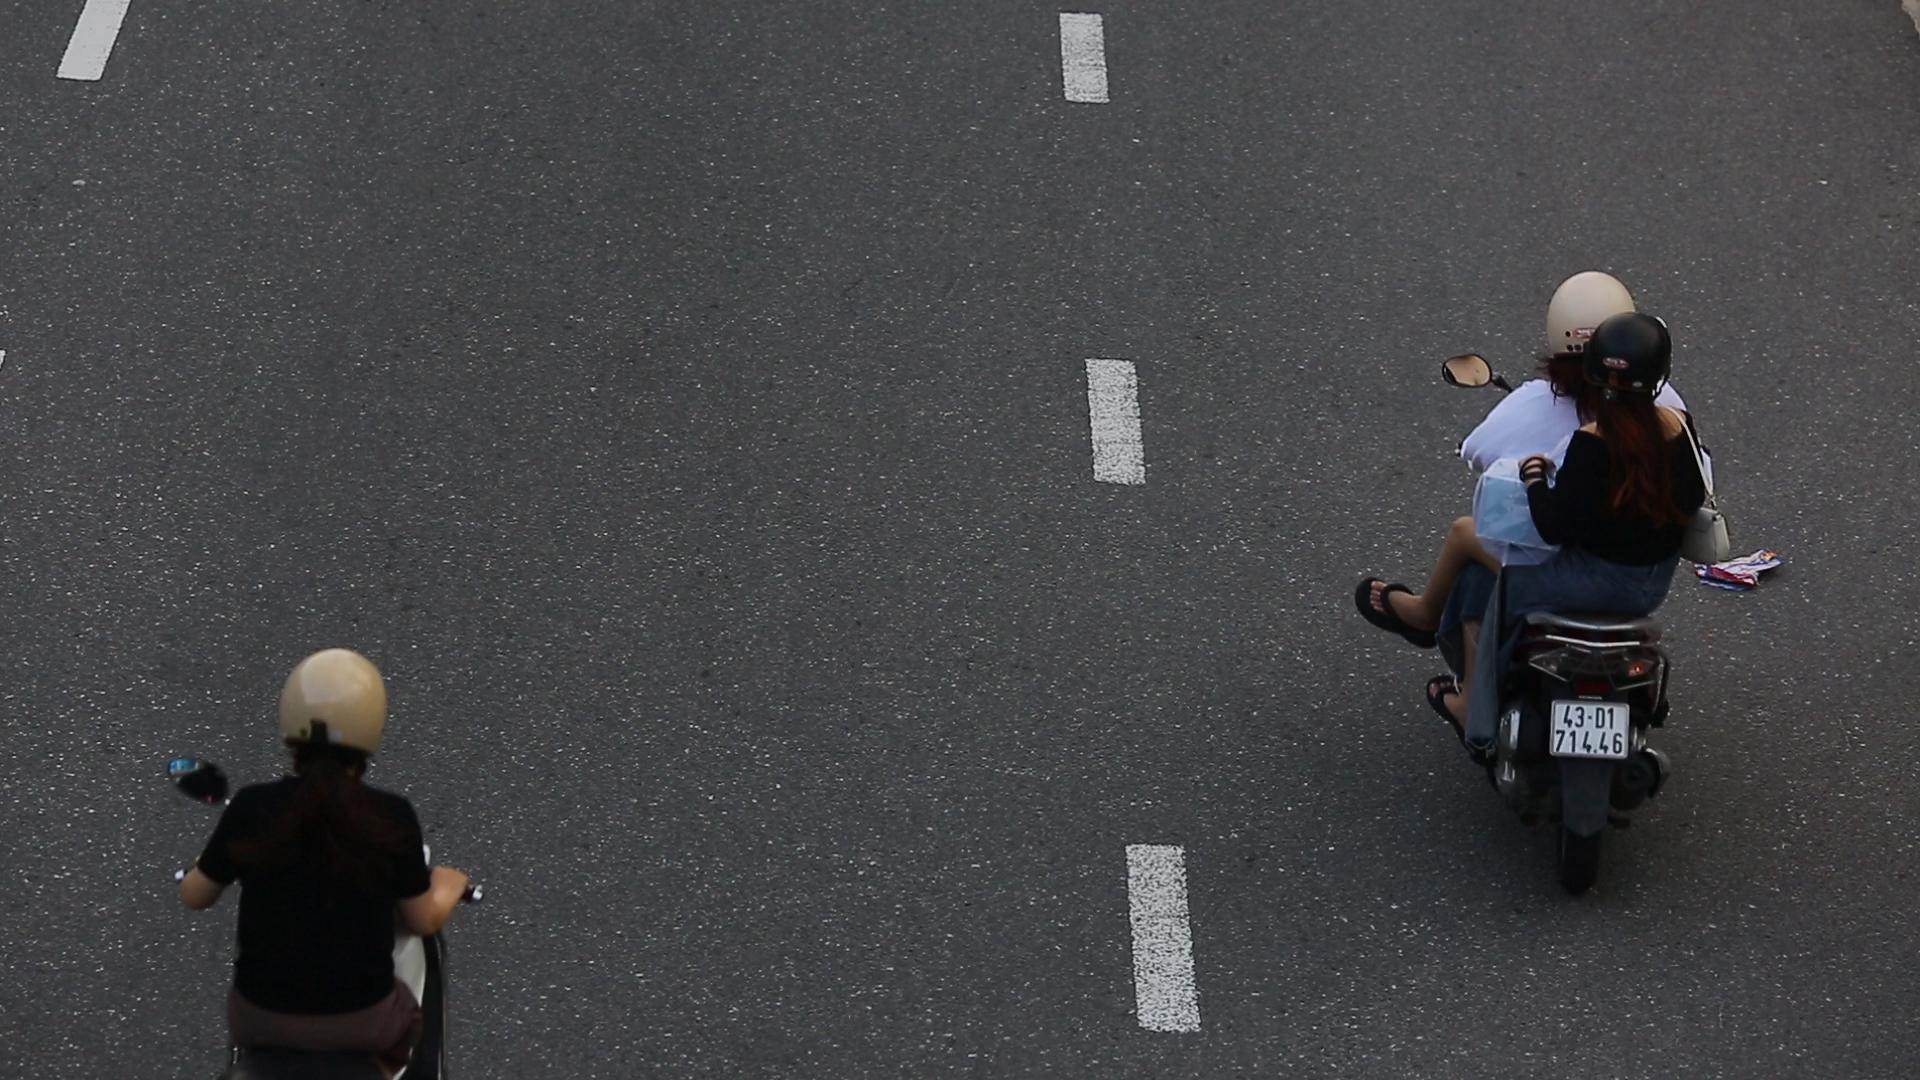motobike: (1416, 258, 1739, 909)
